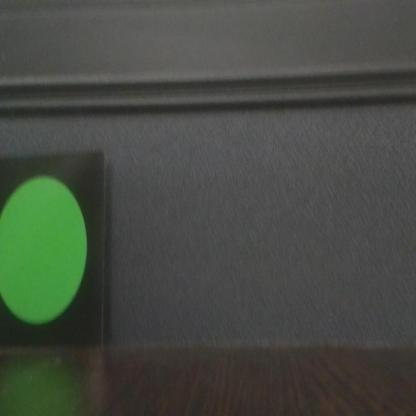go: (1, 151, 103, 343)
